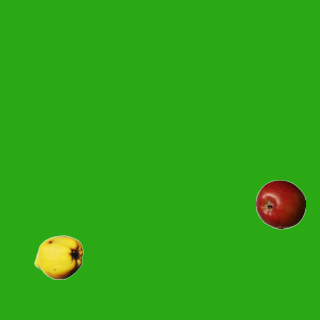Apple Braeburn: (255, 179, 305, 229)
Quince: (33, 232, 83, 282)
